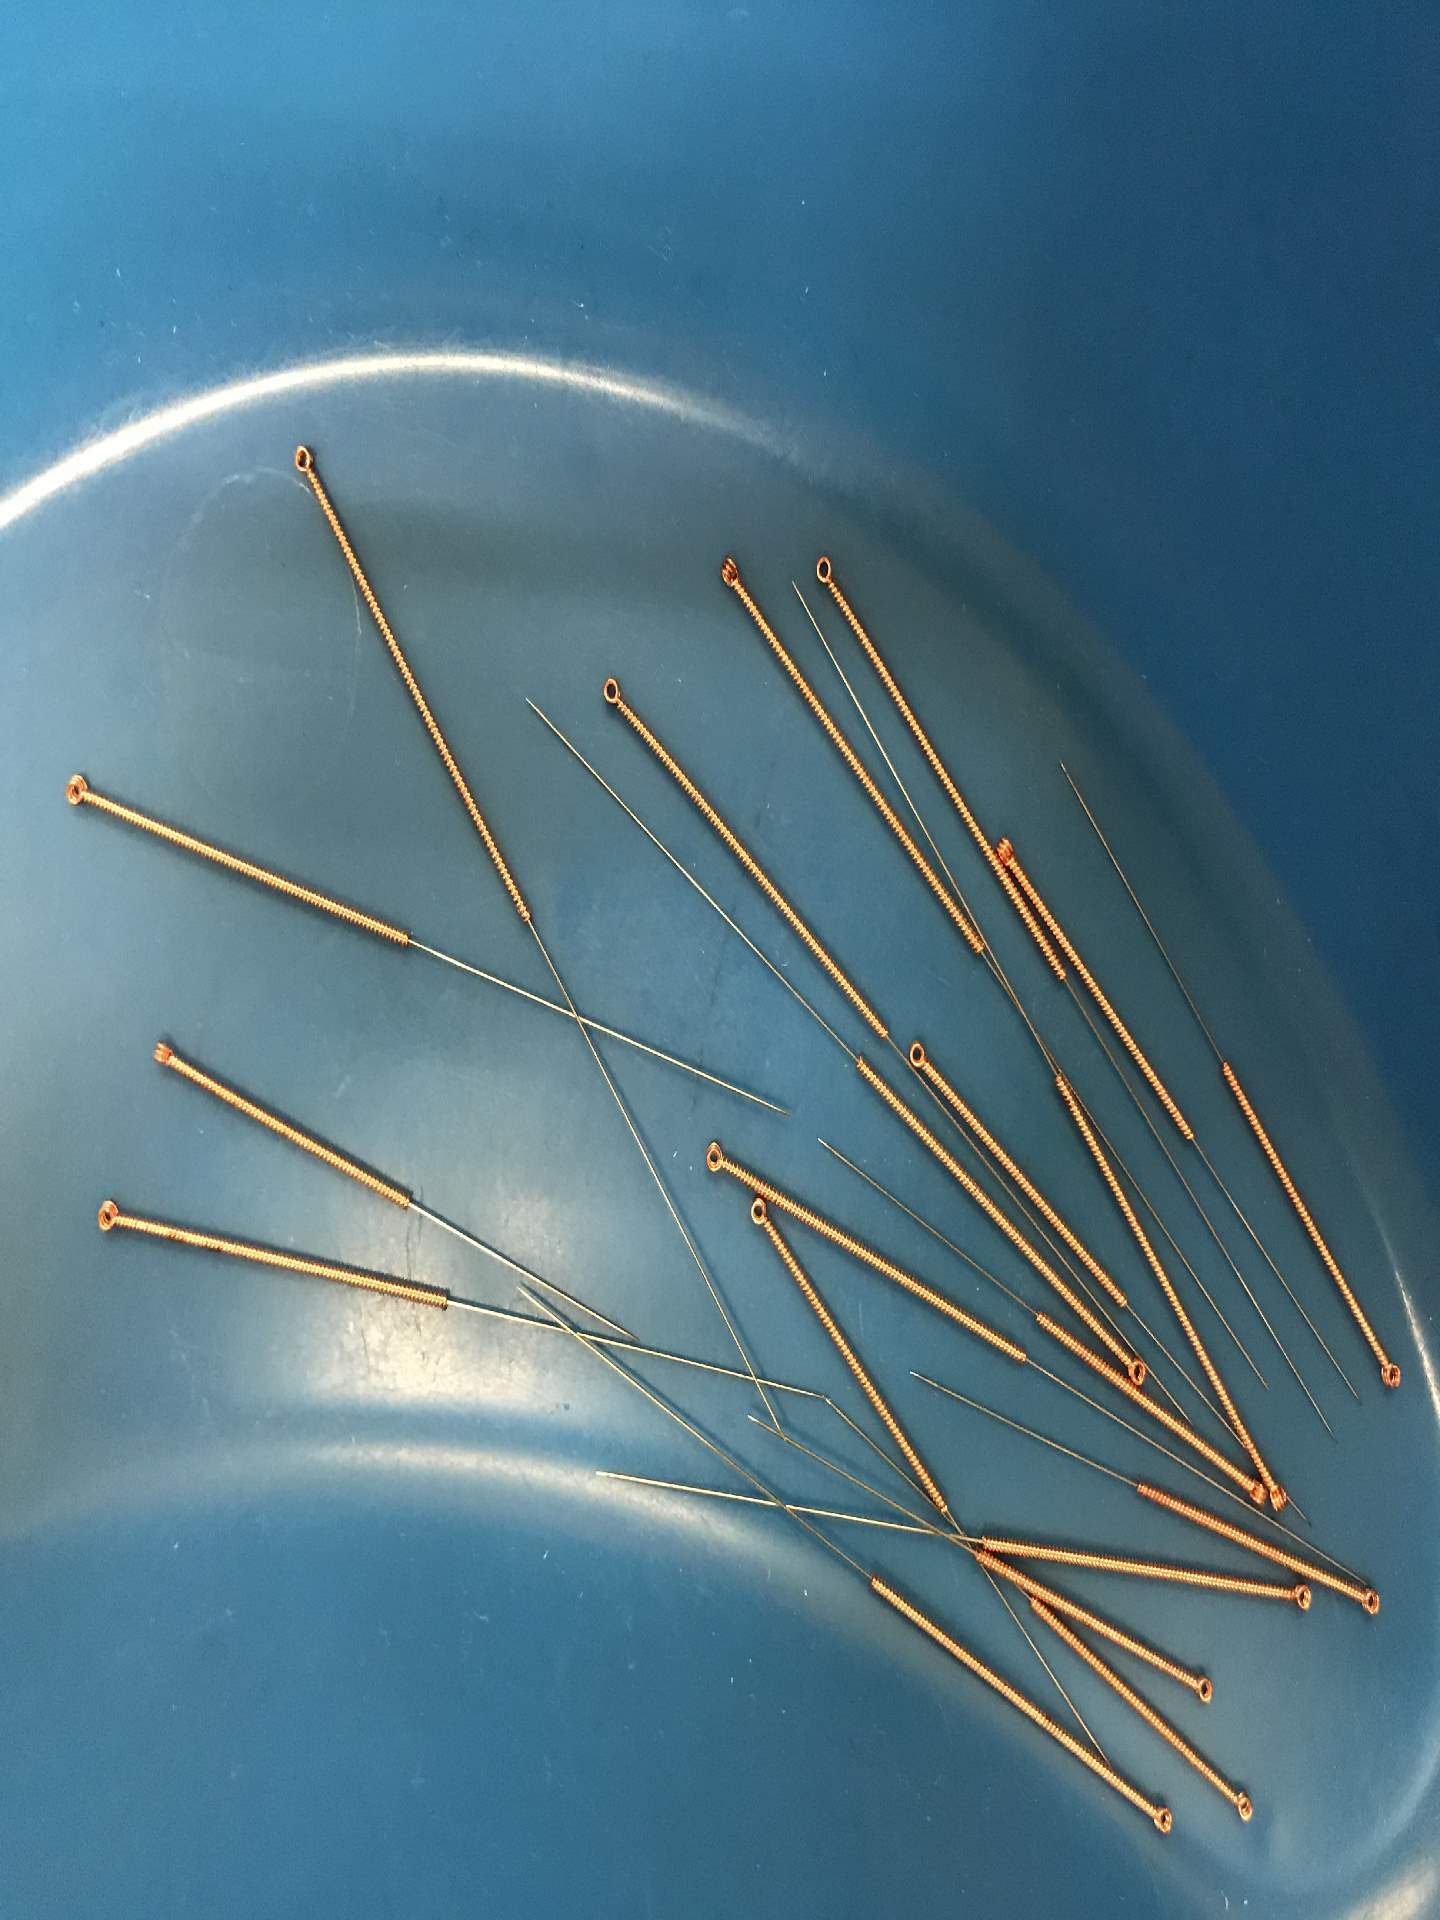needle: (82, 1190, 132, 1249), (54, 766, 103, 816), (281, 435, 327, 485), (141, 1027, 185, 1076), (590, 667, 632, 717), (805, 544, 843, 599), (709, 547, 749, 597), (694, 1135, 735, 1181), (1349, 1581, 1389, 1622), (1183, 1671, 1222, 1710), (1144, 1799, 1181, 1838), (1280, 1578, 1317, 1616), (1224, 1787, 1260, 1826), (1373, 1353, 1407, 1395), (743, 1194, 774, 1237), (1268, 1469, 1293, 1516), (903, 1036, 933, 1075), (1237, 1474, 1268, 1510), (1125, 1352, 1151, 1388), (994, 835, 1018, 868)
